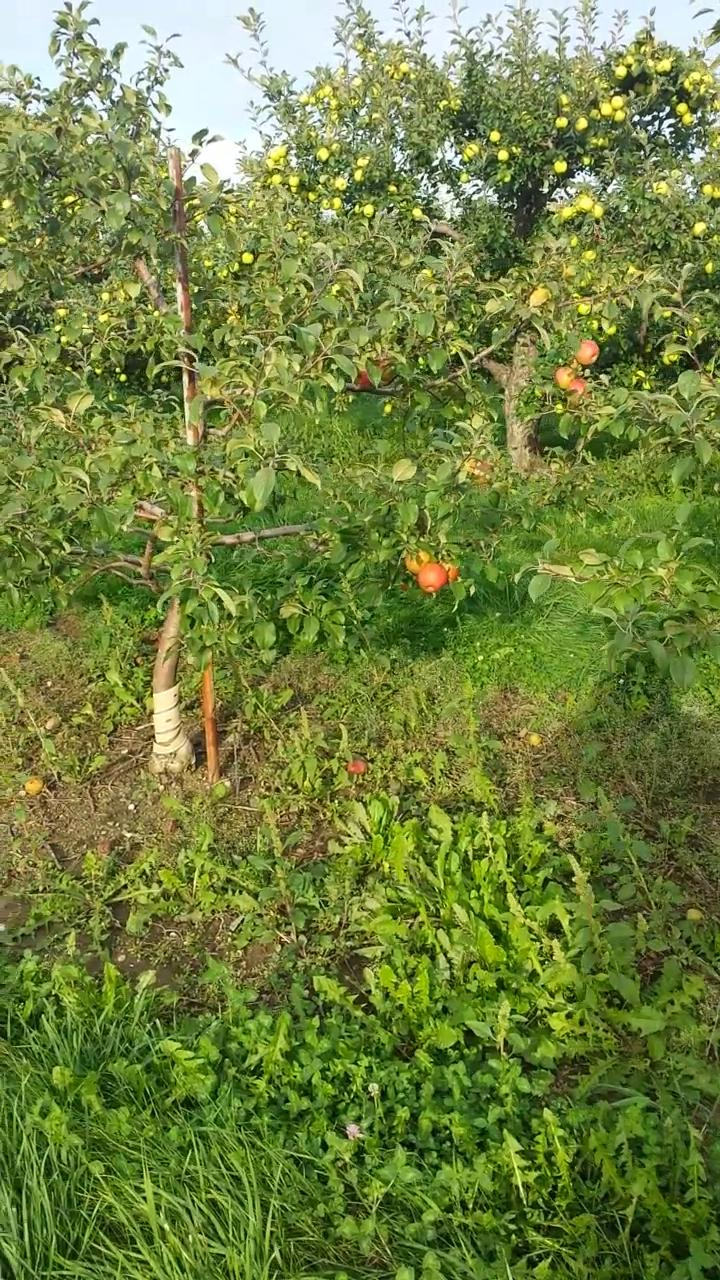Apple: (417, 560, 447, 593), (404, 546, 430, 573), (552, 365, 575, 390), (576, 341, 599, 364), (440, 558, 459, 581), (568, 378, 586, 399), (357, 368, 376, 386)
